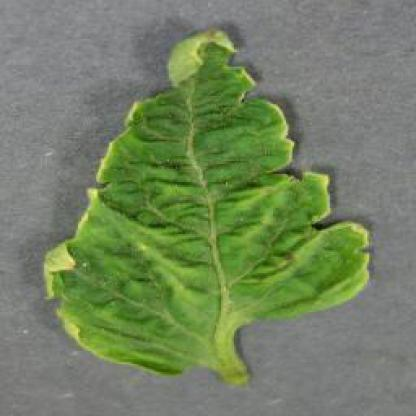bad leaf: (70, 120, 141, 216), (194, 304, 263, 385), (155, 21, 235, 78), (40, 236, 93, 312), (348, 219, 380, 299), (264, 110, 304, 172), (308, 166, 339, 215)
